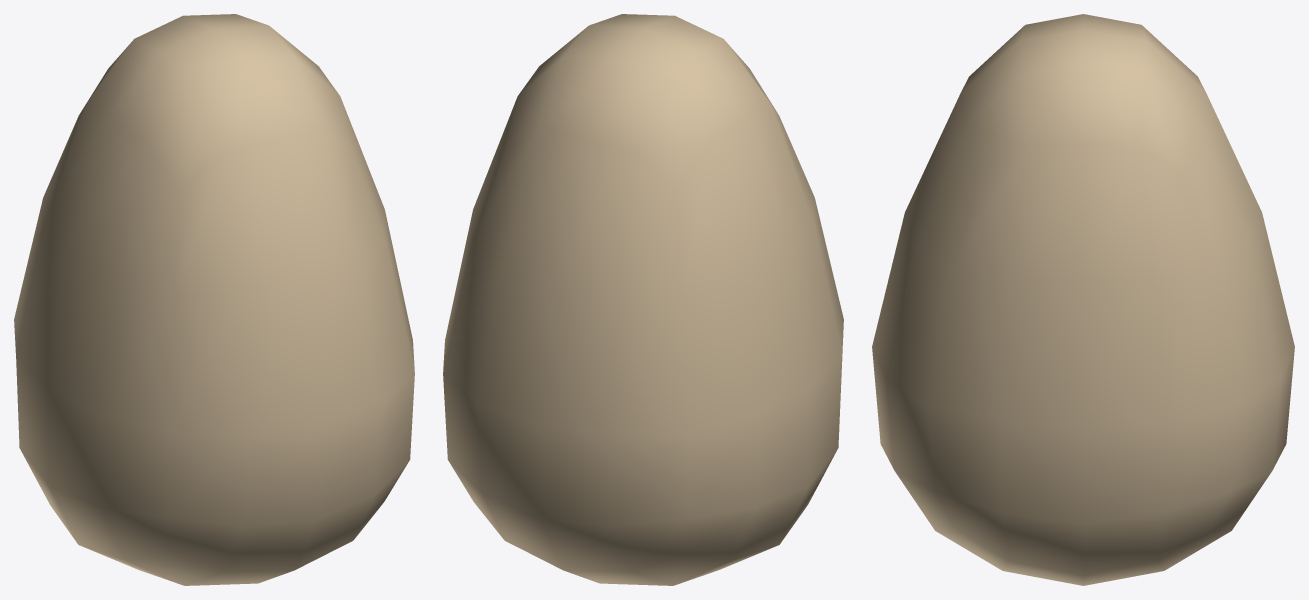
Rendered from Egg_MDL.fbx.
3 views of the same model, side by side, from view 1: azimuth 30°, elevation 25°; view 2: azimuth 150°, elevation 25°; view 3: azimuth 270°, elevation 25° (orthographic).
Visible parts, largest first — view 1: Egg; view 2: Egg; view 3: Egg.
Boxes of the visible parts, x1,y1,x2,y2 form: Egg: [14, 14, 414, 585]; Egg: [443, 14, 843, 585]; Egg: [872, 14, 1294, 585].
Size of the model in its own units: 5.13 by 7.85 by 5.66.
